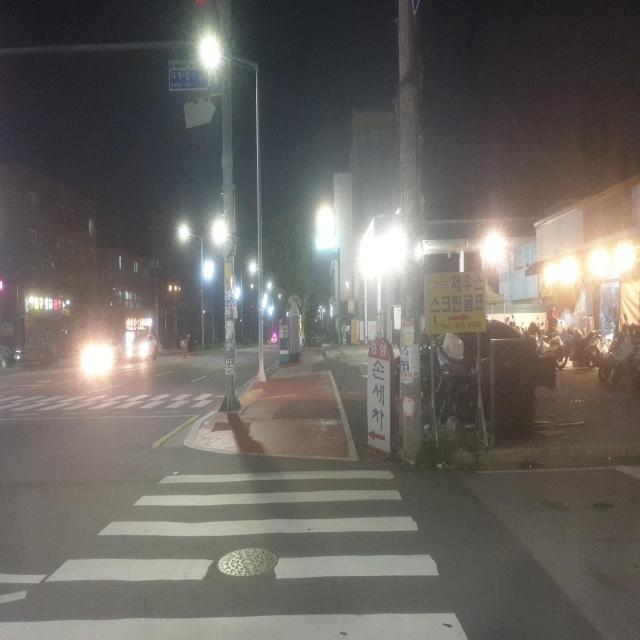횡단보도: (0, 468, 469, 640), (0, 380, 215, 419)
